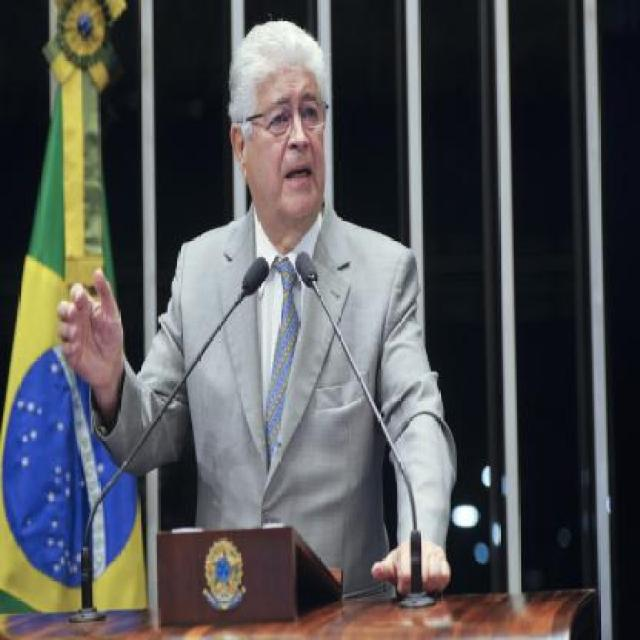obstacle: (57, 24, 469, 598)
